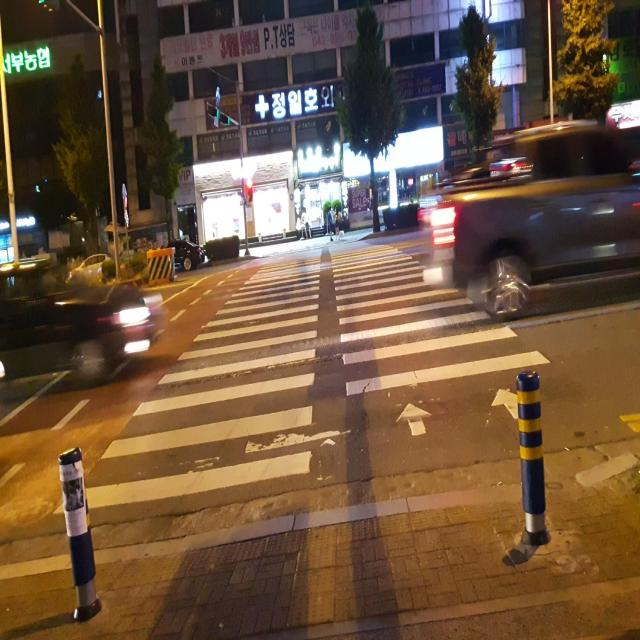빨간불: (245, 178, 255, 204)
횡단보도: (48, 229, 554, 522)
